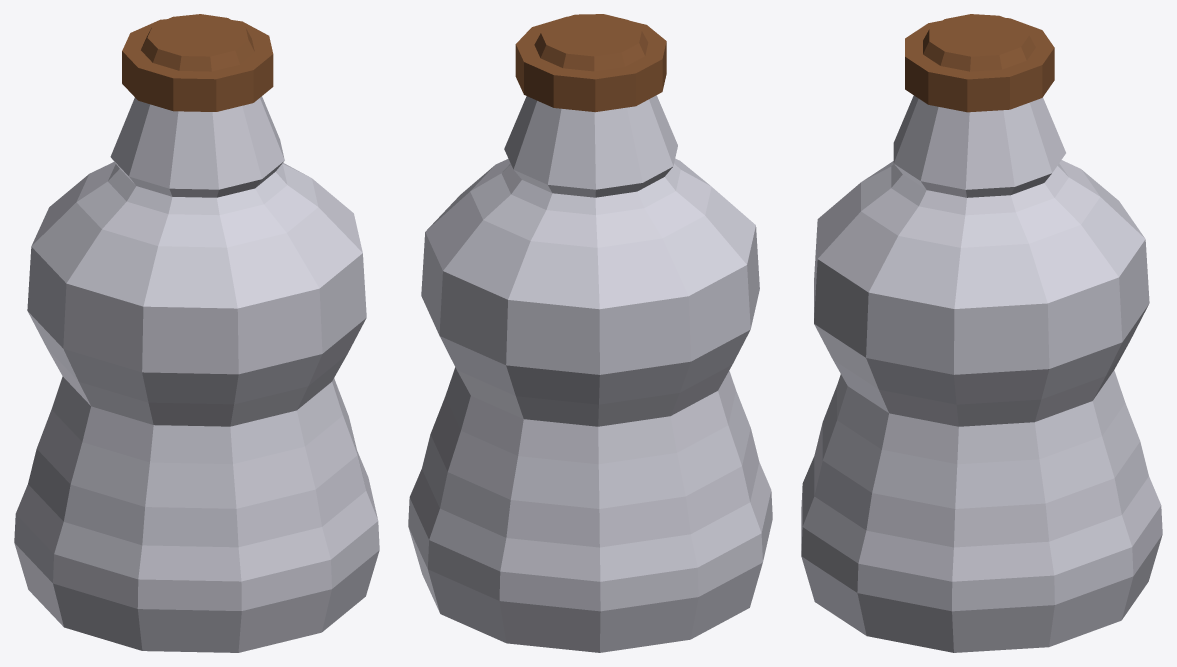
The model's file is potion2.fbx.
3 renders of one model, left to right at view 1: azimuth 30°, elevation 25°; view 2: azimuth 150°, elevation 25°; view 3: azimuth 270°, elevation 25°, orthographic.
Visible parts, largest first — view 1: Potion2; view 2: Potion2; view 3: Potion2.
Part boxes in pixels (left/top/right/bottom): Potion2: left=14, top=14, right=379, bottom=652; Potion2: left=408, top=14, right=772, bottom=652; Potion2: left=801, top=14, right=1162, bottom=652.
Bounding box in the file's own units: 13.3 × 21.96 × 13.17.
